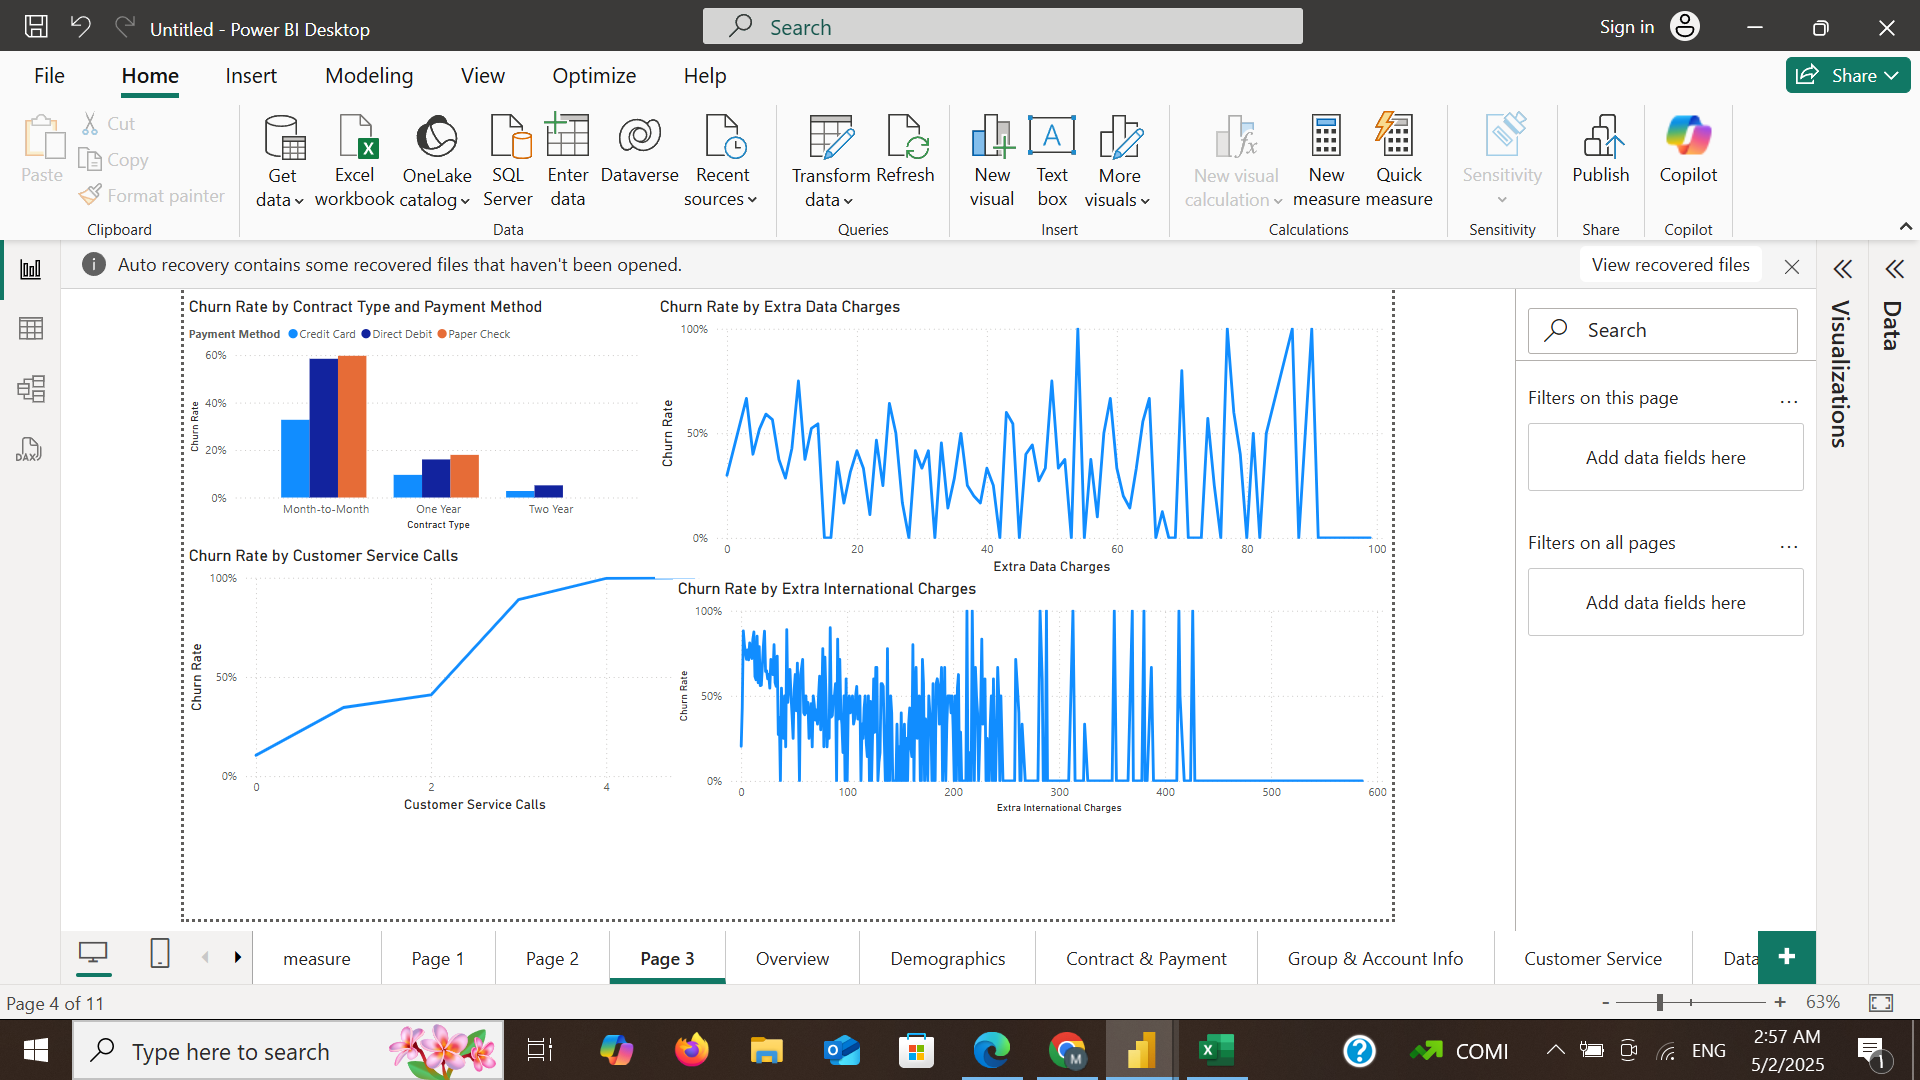

The page's visual inventory and layout, read from the dashboard file:
{"tool":"powerbi","page":{"name":"Page 3","canvas":[1280,720],"ordinal":3},"visuals":[{"type":"clusteredColumnChart","fields":{"Y":["SkyLink - Dataset.Churn Rate"],"Category":["SkyLink - Dataset.Contract Type"],"Series":["SkyLink - Dataset.Payment Method"]},"box":[0,60.5,489.5,251.3],"z":0},{"type":"lineChart","fields":{"Y":["SkyLink - Dataset.Churn Rate"],"Category":["SkyLink - Dataset.Customer Service Calls"]},"box":[0,325,555.6,287.2],"z":1000},{"type":"lineChart","fields":{"Y":["SkyLink - Dataset.Churn Rate"],"Category":["SkyLink - Dataset.Extra Data Charges"]},"box":[498.9,60.5,780.5,298.6],"z":2000},{"type":"lineChart","fields":{"Y":["SkyLink - Dataset.Churn Rate"],"Category":["SkyLink - Dataset.Extra International Charges"]},"box":[517.8,359.1,761.6,253.2],"z":3000}]}

Visuals, with their boxes on the page's 1280x720 design canvas (x1, y1, x2, y2). These are canvas units, not pixel positions in the 1920x1080 screenshot, which may show the page scaled, cropped or inside an application window:
clusteredColumnChart - SkyLink - Dataset.Churn Rate x SkyLink - Dataset.Contract Type: detection(0, 60, 490, 312)
lineChart - SkyLink - Dataset.Churn Rate x SkyLink - Dataset.Customer Service Calls: detection(0, 325, 556, 612)
lineChart - SkyLink - Dataset.Churn Rate x SkyLink - Dataset.Extra Data Charges: detection(499, 60, 1279, 359)
lineChart - SkyLink - Dataset.Churn Rate x SkyLink - Dataset.Extra International Charges: detection(518, 359, 1279, 612)
